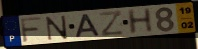8: (154, 6, 176, 33)
A: (74, 13, 102, 39)
F: (19, 16, 44, 44)
H: (125, 7, 155, 36)
N: (45, 14, 69, 41)
Z: (98, 10, 126, 38)
